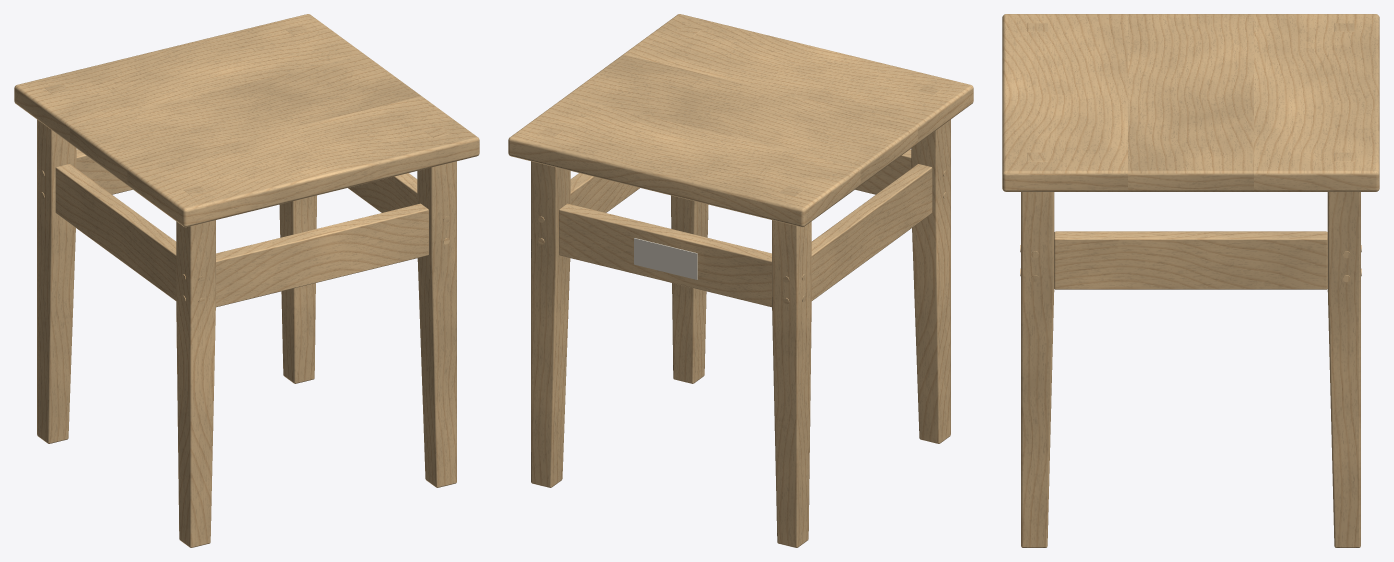
The model's file is Hocker01_Raw.glb.
The picture shows the model from 3 angles, left to right: view 1: azimuth 30°, elevation 25°; view 2: azimuth 150°, elevation 25°; view 3: azimuth 270°, elevation 25°; orthographic projection. The views are drawn at different scales.
Visible parts, largest first — view 1: Hocker01_Raw__WoodRaw; view 2: Hocker01_Raw__WoodRaw, Hocker01_Raw__WallWhite; view 3: Hocker01_Raw__WoodRaw.
Boxes of the visible parts, x1,y1,x2,y2 form: Hocker01_Raw__WoodRaw: [14, 14, 479, 547]; Hocker01_Raw__WoodRaw: [508, 14, 973, 547]; Hocker01_Raw__WallWhite: [634, 238, 697, 279]; Hocker01_Raw__WoodRaw: [1002, 14, 1379, 547].
Bounding box in the file's own units: 0.4 × 0.45 × 0.4.
Materials: 2 (1 with a texture image).
